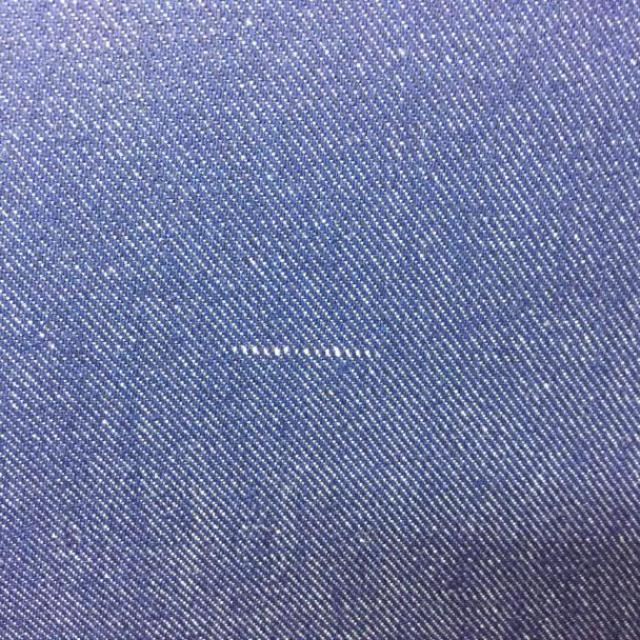Knot: (231, 345, 378, 361)
